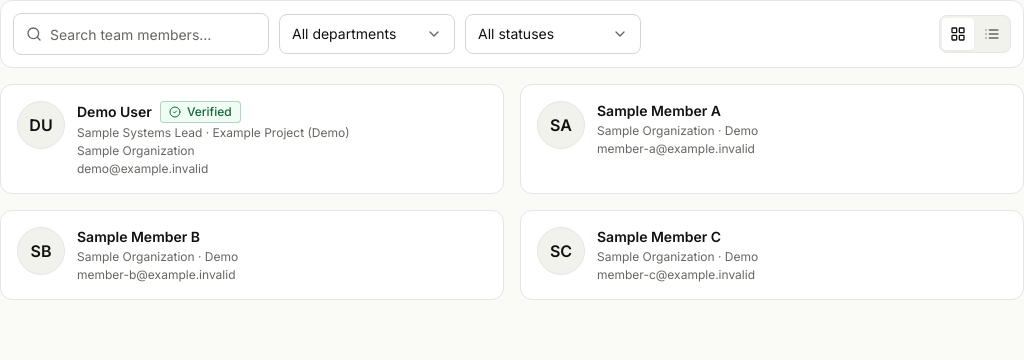
it: Business Components & Wendoro Demo Showcase › filters TeamDirectory by department and status and resets empty search
The image size is (1024, 360).
Click the dropdown labelled "status" at {"x": 553, "y": 34}, box [465,14,641,54]
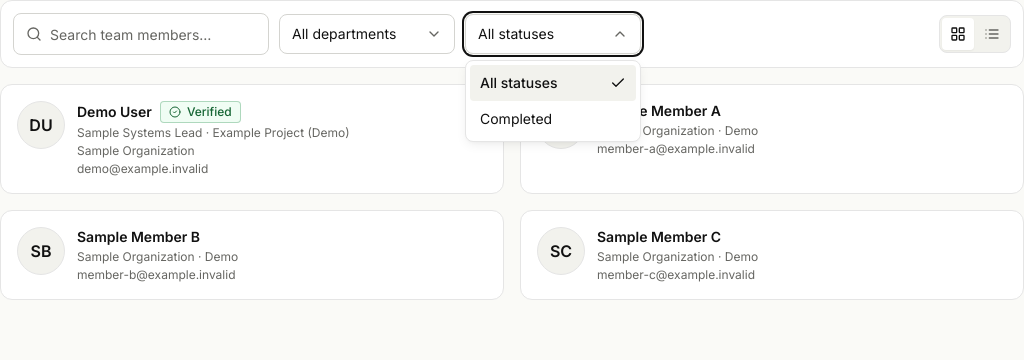
Click the option "Completed" at {"x": 516, "y": 118}, box [480,110,552,127]
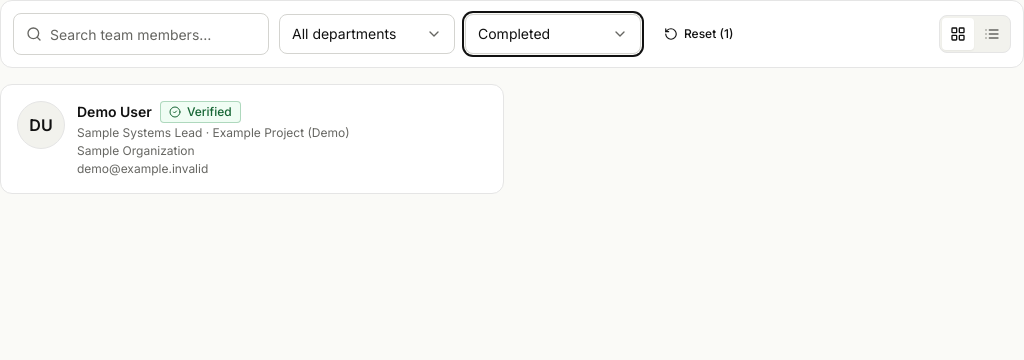
Check: the text "Demo User" is shown, box [77,102,152,122]
Check: the text "Sample Member A" is gone
Type "NoSuchMember" into the search field at {"x": 155, "y": 34}, box [42,14,268,54]
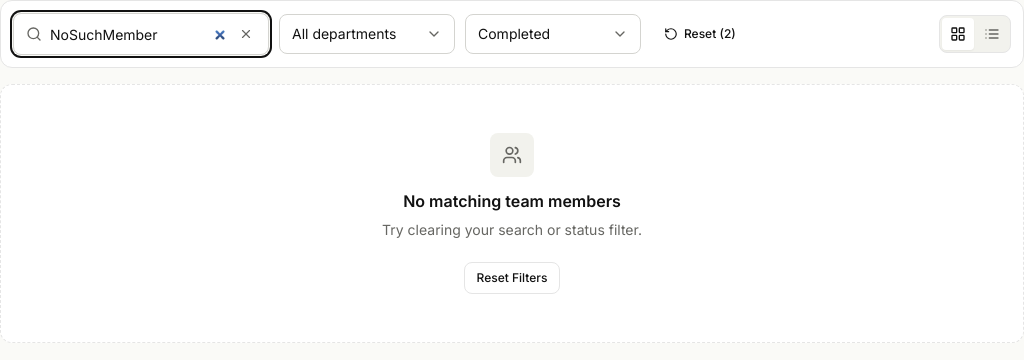
Check: the heading "No matching team members" is shown, box [403,189,621,213]
Click the button "Reset Filters" at {"x": 512, "y": 278}, box [464,262,560,294]
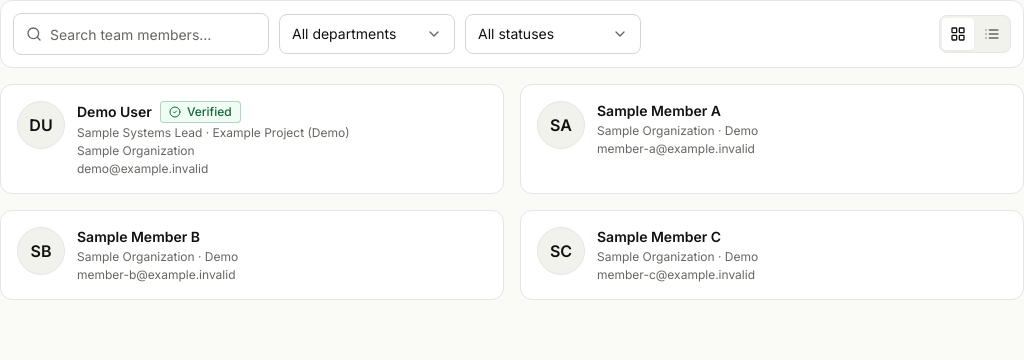
Check: the text "Sample Member B" is shown, box [77,227,200,247]
Check: the text "Demo User" is shown, box [77,102,152,122]
